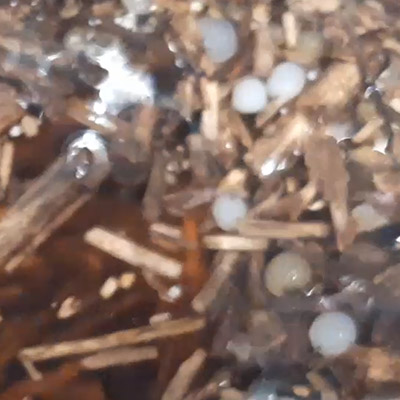nurdle: (256, 245, 316, 299), (305, 309, 362, 359), (192, 16, 244, 66), (261, 58, 309, 105), (224, 75, 271, 117), (208, 195, 254, 233)
